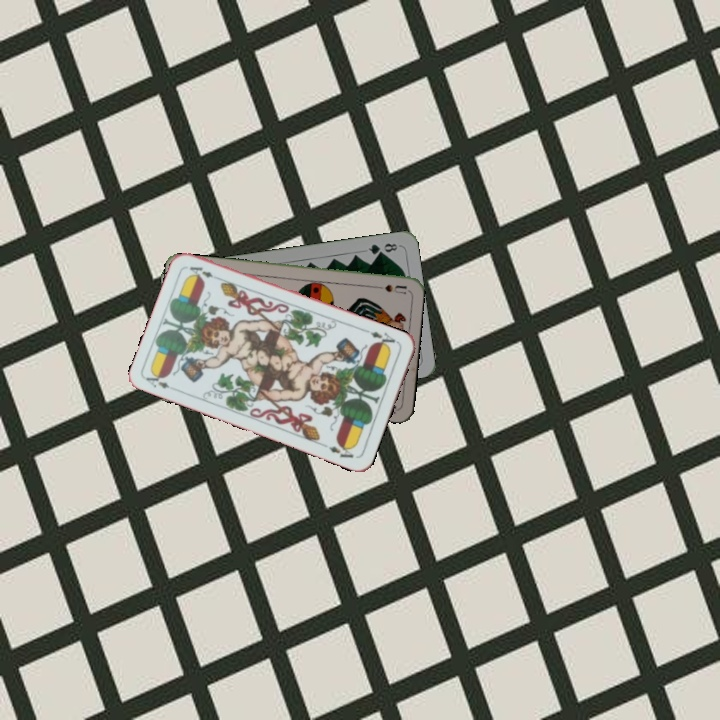EA: (142, 368, 181, 394), (366, 327, 401, 351)
G8: (365, 239, 402, 257)
SU: (367, 280, 408, 297)
